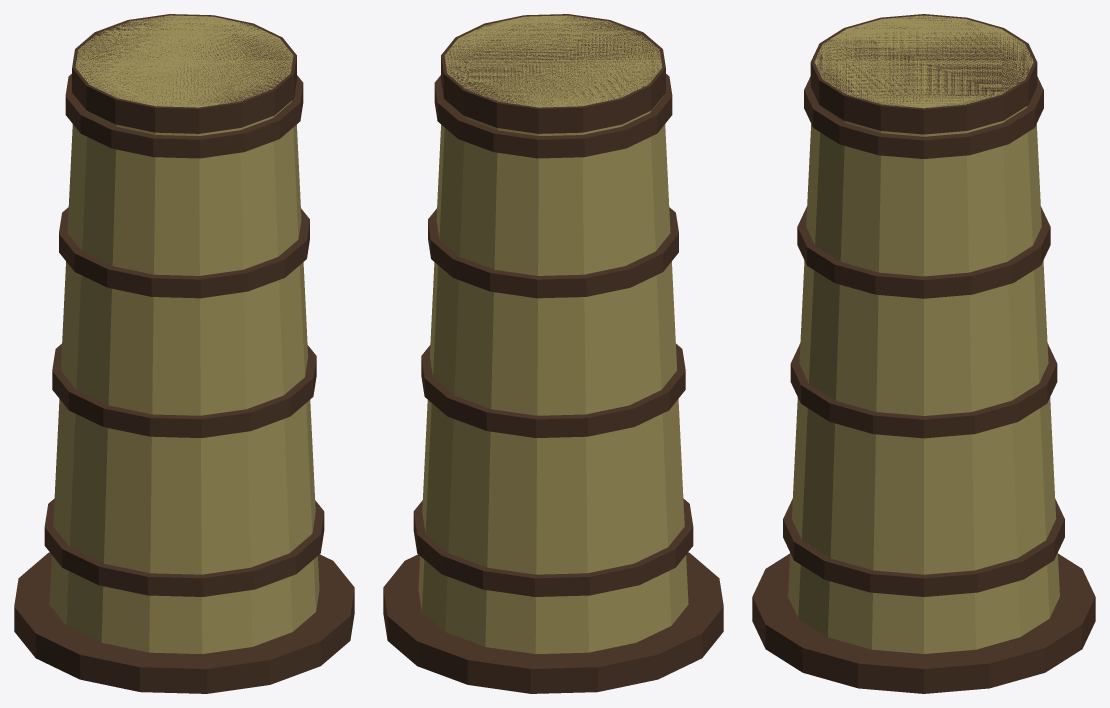
Rendered from furniture_bamboo_vase.glb.
The picture shows the model from 3 angles, left to right: view 1: azimuth 30°, elevation 25°; view 2: azimuth 150°, elevation 25°; view 3: azimuth 270°, elevation 25°; orthographic projection.
Parts seen in each view (by area): view 1: PROP_BambooVase; view 2: PROP_BambooVase; view 3: PROP_BambooVase.
Part boxes in pixels (x1,y1,x2,y2): PROP_BambooVase: (14, 14, 354, 693); PROP_BambooVase: (383, 14, 723, 693); PROP_BambooVase: (752, 14, 1095, 693).
Bounding box in the file's own units: 0.5 × 0.9 × 0.5.
